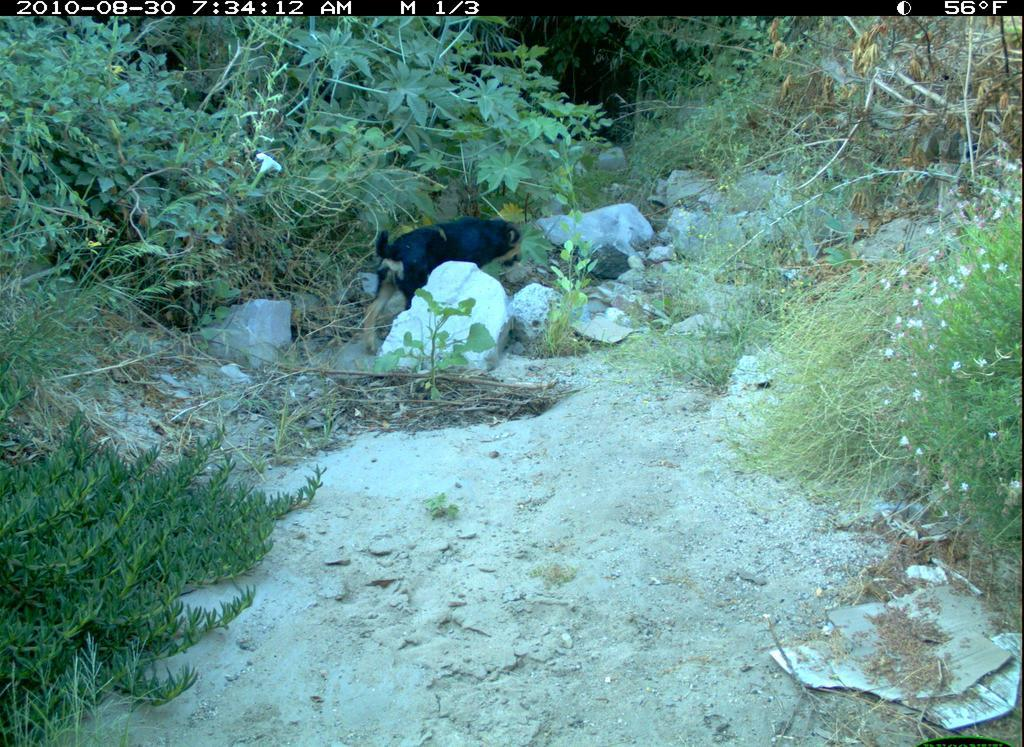dog: (357, 201, 527, 335)
